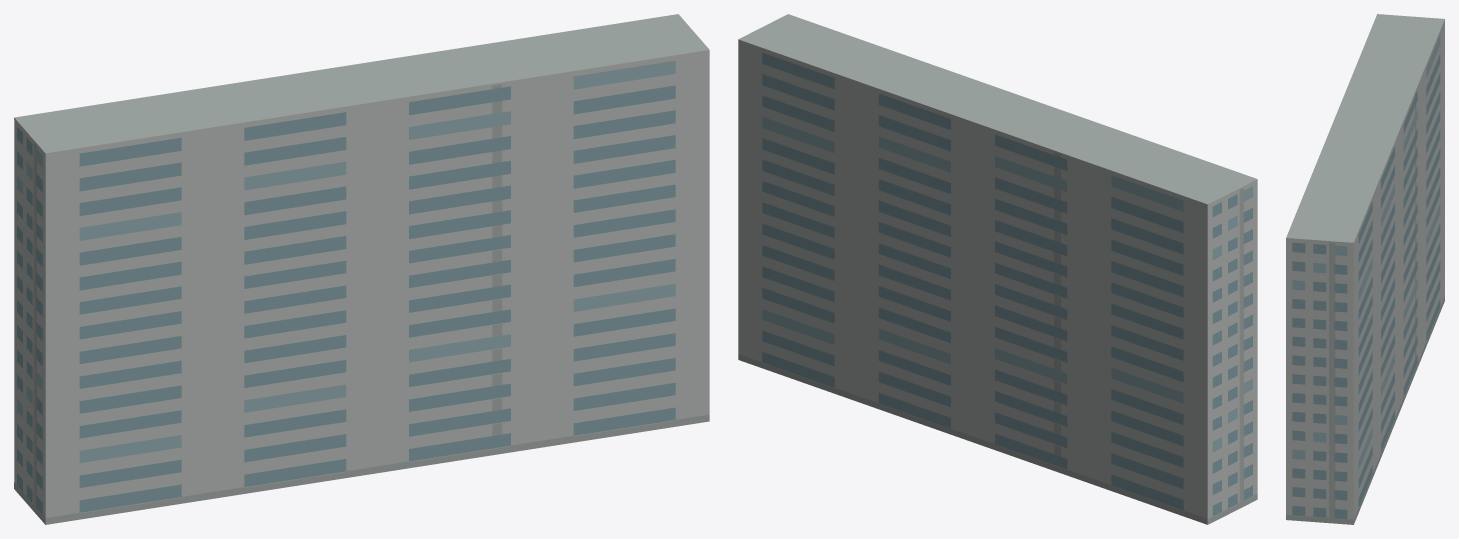
Rendered from residential-675d1710-6154-4bfc-becc-4e0930553984.glb.
3 views of the same model, side by side, from view 1: azimuth 30°, elevation 25°; view 2: azimuth 150°, elevation 25°; view 3: azimuth 270°, elevation 25° (orthographic). The views are drawn at different scales.
Visible parts, largest first — view 1: residential-675d1710-6154-4bfc-becc-4e0930553984.tmp; view 2: residential-675d1710-6154-4bfc-becc-4e0930553984.tmp; view 3: residential-675d1710-6154-4bfc-becc-4e0930553984.tmp.
Boxes of the visible parts, box(x1,y1,x2,y2) form: residential-675d1710-6154-4bfc-becc-4e0930553984.tmp: box(14, 14, 709, 524); residential-675d1710-6154-4bfc-becc-4e0930553984.tmp: box(738, 14, 1257, 524); residential-675d1710-6154-4bfc-becc-4e0930553984.tmp: box(1286, 14, 1444, 524).
Bounding box in the file's own units: 79.59 × 45.75 × 23.36.
